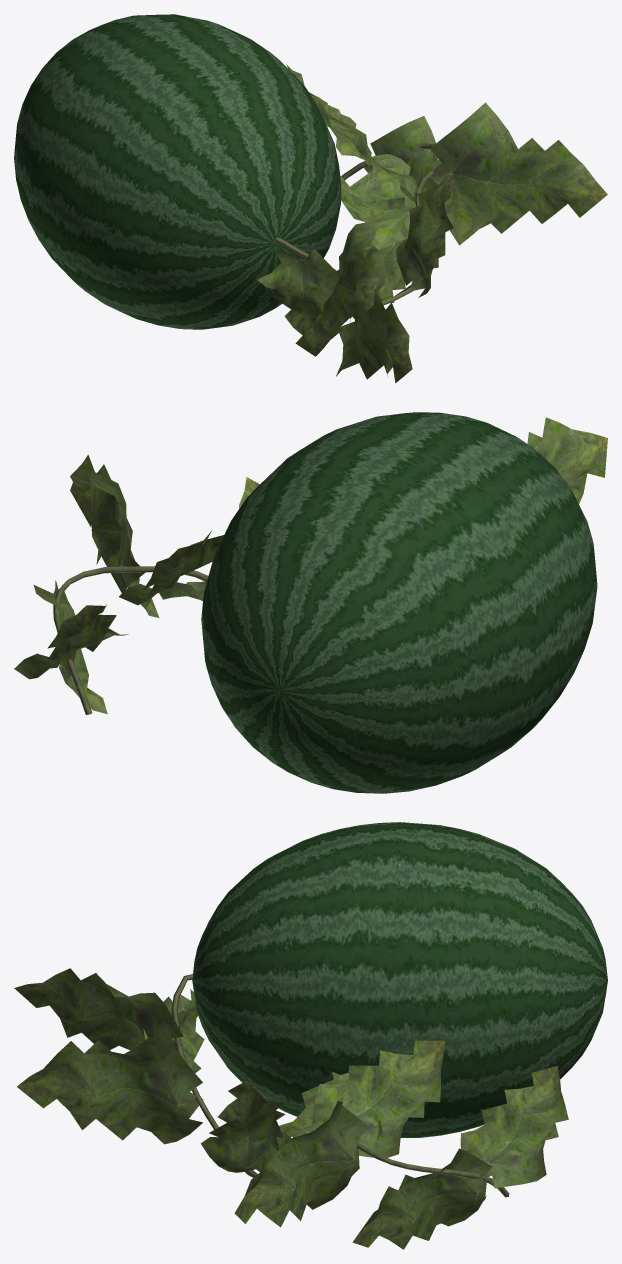
File: watermelon.glb
3 views of the same model, one above another, from view 1: azimuth 30°, elevation 25°; view 2: azimuth 150°, elevation 25°; view 3: azimuth 270°, elevation 25° (orthographic). The views are drawn at different scales.
Visible parts, largest first — view 1: Sphere.001_Material_0, Sphere.001_Watermelon Leaf_0; view 2: Sphere.001_Material_0, Sphere.001_Watermelon Leaf_0; view 3: Sphere.001_Material_0, Sphere.001_Watermelon Leaf_0.
Boxes of the visible parts, x1=… form: Sphere.001_Material_0: x1=14, y1=14, x2=441, y2=329; Sphere.001_Watermelon Leaf_0: x1=257, y1=64, x2=607, y2=383; Sphere.001_Material_0: x1=53, y1=412, x2=597, y2=793; Sphere.001_Watermelon Leaf_0: x1=14, y1=417, x2=607, y2=714; Sphere.001_Material_0: x1=171, y1=822, x2=607, y2=1197; Sphere.001_Watermelon Leaf_0: x1=14, y1=968, x2=568, y2=1249.
Size of the model in its own units: 0.5121 by 0.2793 by 0.522.
Materials: 2 (2 with a texture image).
